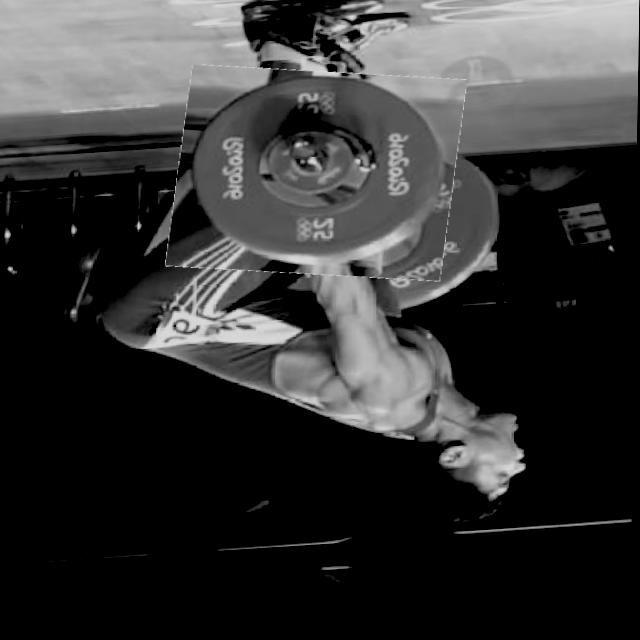barbell: (172, 63, 463, 295)
